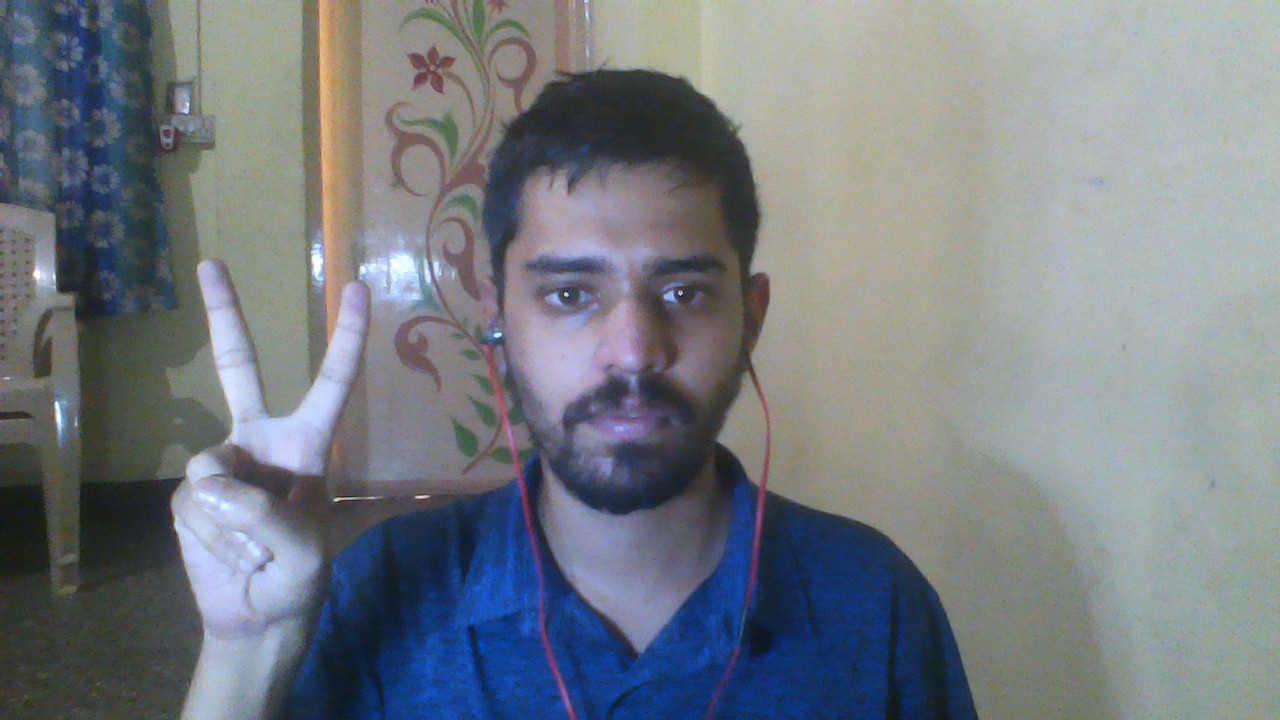v: (142, 246, 390, 652)
